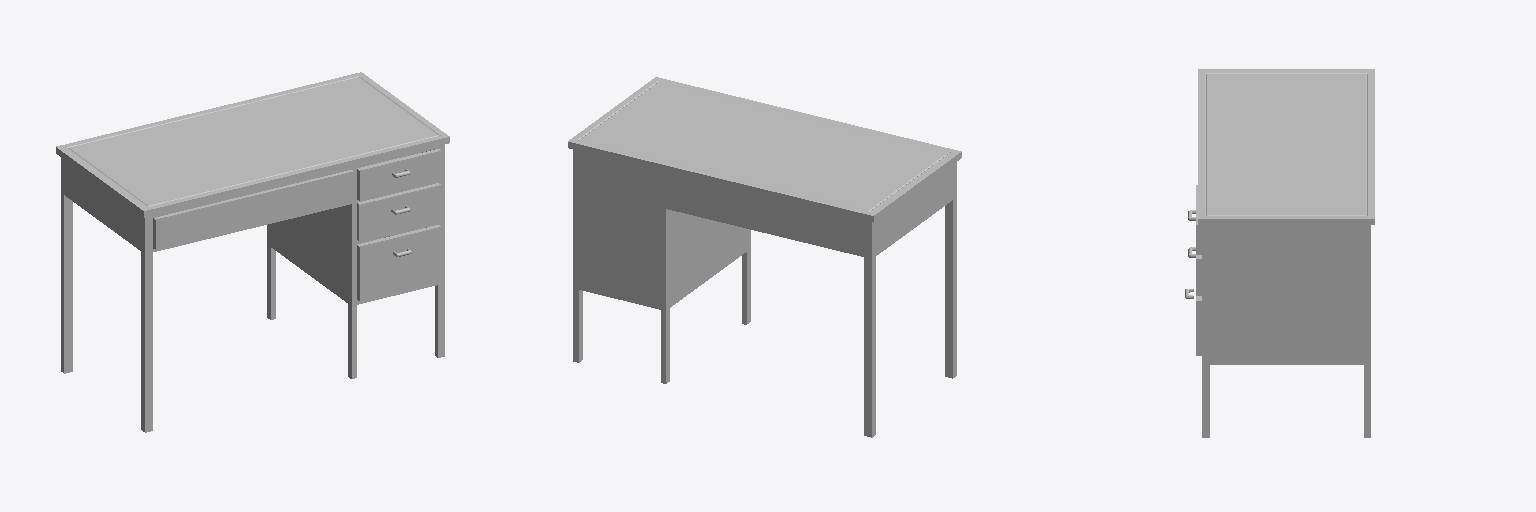
Rendered from DeskV1.obj.
3 views of the same model, side by side, from view 1: azimuth 30°, elevation 25°; view 2: azimuth 150°, elevation 25°; view 3: azimuth 270°, elevation 25° (orthographic).
Parts seen in each view (by area): view 1: Desk_Cube.005, Drawer_Large_Cube.003, Desk.003_Cube.017, Desk.002_Cube.016, Desk.001_Cube.004; view 2: Desk_Cube.005; view 3: Desk_Cube.005.
Part boxes in pixels (x1,y1,x2,y2): Desk_Cube.005: (56, 72, 449, 432); Drawer_Large_Cube.003: (153, 170, 353, 249); Desk.003_Cube.017: (357, 225, 440, 300); Desk.002_Cube.016: (357, 183, 440, 240); Desk.001_Cube.004: (357, 149, 440, 200); Desk_Cube.005: (568, 77, 961, 437); Desk_Cube.005: (1198, 69, 1374, 437).
Bounding box in the file's own units: 1.52 × 1.06 × 0.8189.